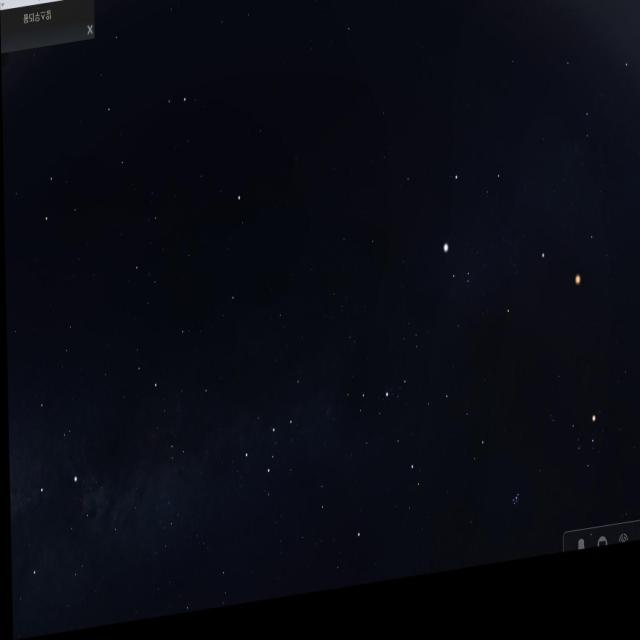cassiopeia: (232, 370, 313, 507)
pleiades: (502, 509, 517, 540)
